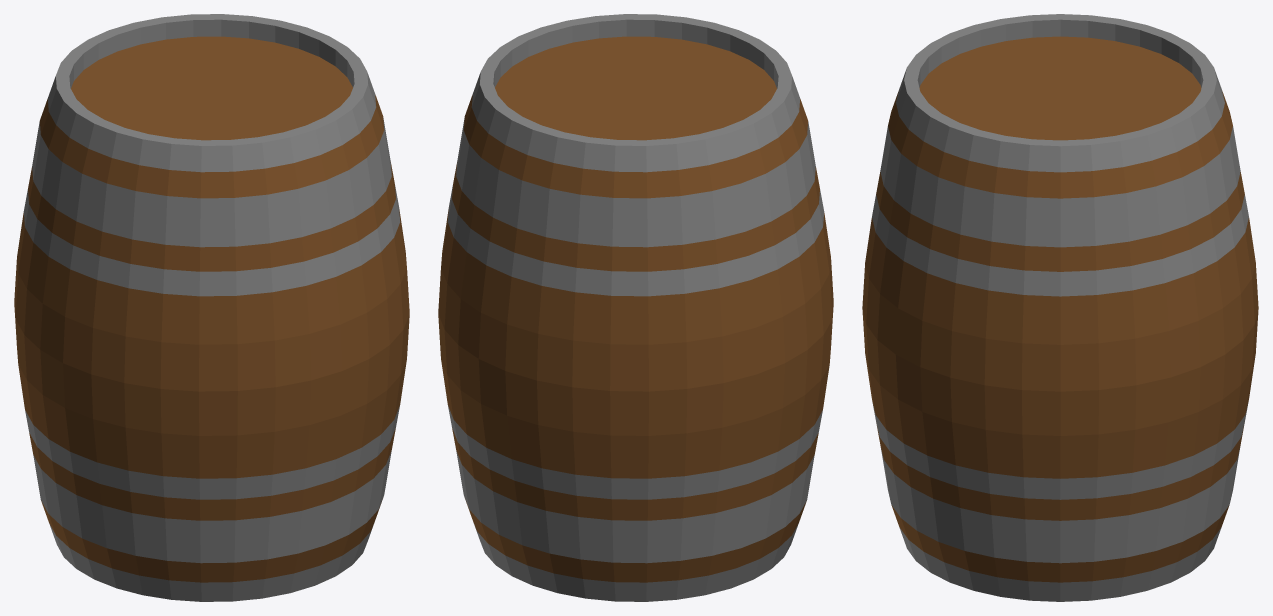
File: barrel.fbx
3 views of the same model, side by side, from view 1: azimuth 30°, elevation 25°; view 2: azimuth 150°, elevation 25°; view 3: azimuth 270°, elevation 25° (orthographic).
Visible parts, largest first — view 1: Cylinder; view 2: Cylinder; view 3: Cylinder.
Boxes of the visible parts, bbox=[...] form: Cylinder: bbox=[14, 14, 409, 601]; Cylinder: bbox=[438, 14, 833, 601]; Cylinder: bbox=[862, 14, 1258, 601].
Size of the model in its own units: 236 by 300 by 236.
